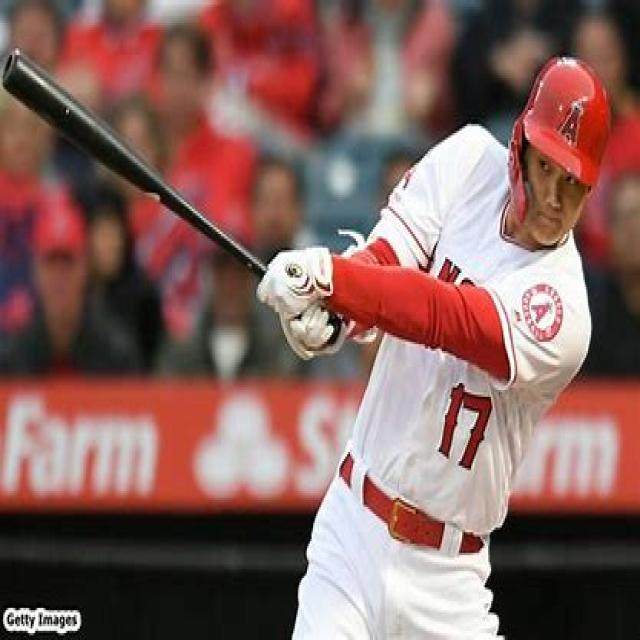bat: (0, 41, 270, 279)
